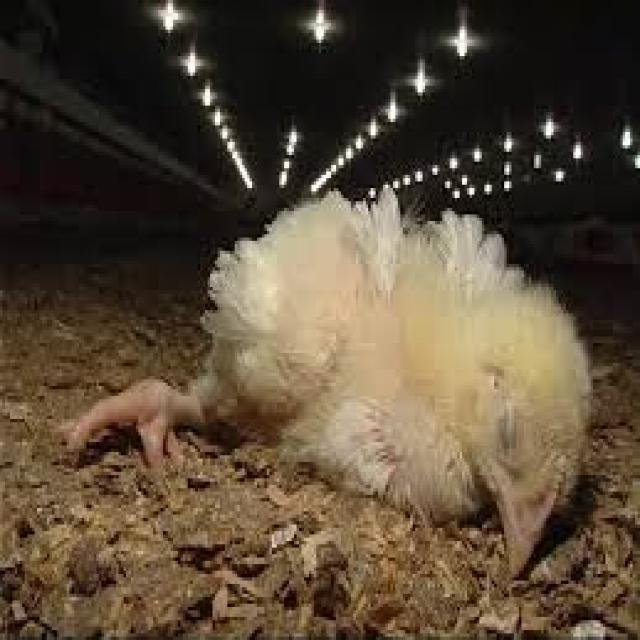Unhealthy: (49, 160, 608, 585)
